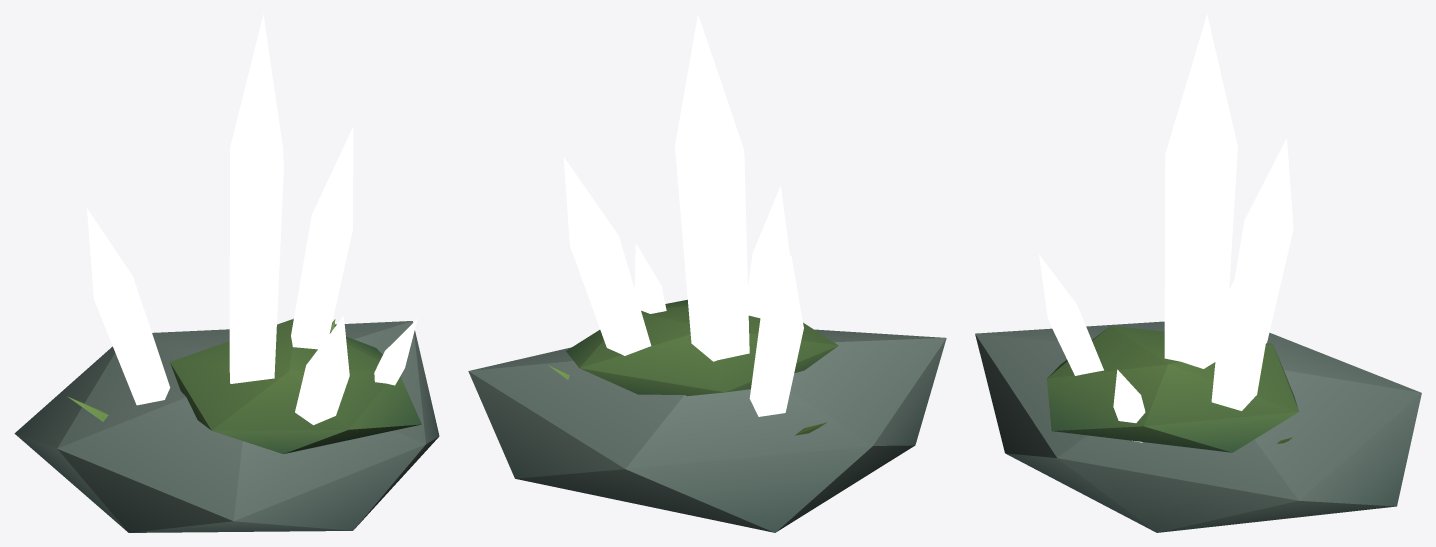
The model's file is crystal-cluster-l-lod1.glb.
3 views of the same model, side by side, from view 1: azimuth 30°, elevation 25°; view 2: azimuth 150°, elevation 25°; view 3: azimuth 270°, elevation 25° (orthographic). The views are drawn at different scales.
Visible parts, largest first — view 1: gg_crystal_cluster_l_lod1; view 2: gg_crystal_cluster_l_lod1; view 3: gg_crystal_cluster_l_lod1.
Boxes of the visible parts, x1,y1,x2,y2 form: gg_crystal_cluster_l_lod1: (14,14,439,532); gg_crystal_cluster_l_lod1: (468,14,946,532); gg_crystal_cluster_l_lod1: (975,14,1421,532).
Size of the model in its own units: 1.8 by 1.95 by 1.77.
